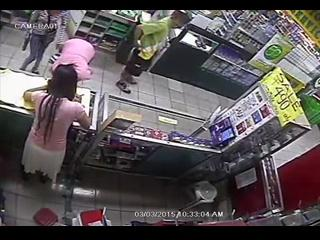Normal: (21, 66, 92, 191), (116, 10, 192, 93), (18, 11, 58, 74), (50, 38, 96, 81)
